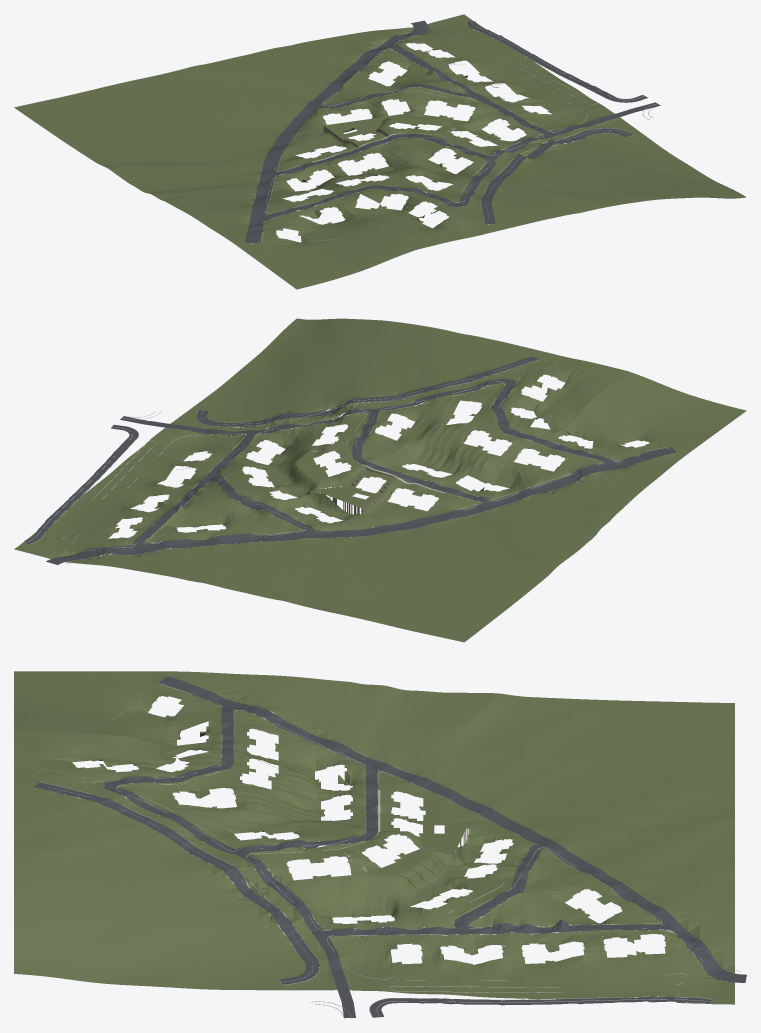
File: context-ground.glb
The picture shows the model from 3 angles, top to bottom: view 1: azimuth 30°, elevation 25°; view 2: azimuth 150°, elevation 25°; view 3: azimuth 270°, elevation 25°; orthographic projection. The views are drawn at different scales.
Visible parts, largest first — view 1: Terrain — CAD TK and road levels with terraced pads, CAD roads — corrected block loops and arterials, CAD curb edges; view 2: Terrain — CAD TK and road levels with terraced pads, CAD roads — corrected block loops and arterials, CAD curb edges; view 3: Terrain — CAD TK and road levels with terraced pads, CAD roads — corrected block loops and arterials, CAD curb edges.
Boxes of the visible parts, bbox=[...] form: Terrain — CAD TK and road levels with terraced pads: bbox=[14, 14, 746, 289]; CAD roads — corrected block loops and arterials: bbox=[245, 20, 660, 243]; CAD curb edges: bbox=[245, 21, 661, 242]; Terrain — CAD TK and road levels with terraced pads: bbox=[14, 318, 746, 642]; CAD roads — corrected block loops and arterials: bbox=[24, 356, 676, 564]; CAD curb edges: bbox=[28, 360, 677, 564]; Terrain — CAD TK and road levels with terraced pads: bbox=[14, 671, 734, 1004]; CAD roads — corrected block loops and arterials: bbox=[34, 676, 746, 1017]; CAD curb edges: bbox=[37, 676, 743, 1018].
Bounding box in the file's own units: 313 × 32.81 × 315.
Materials: 5 (5 with a texture image).
